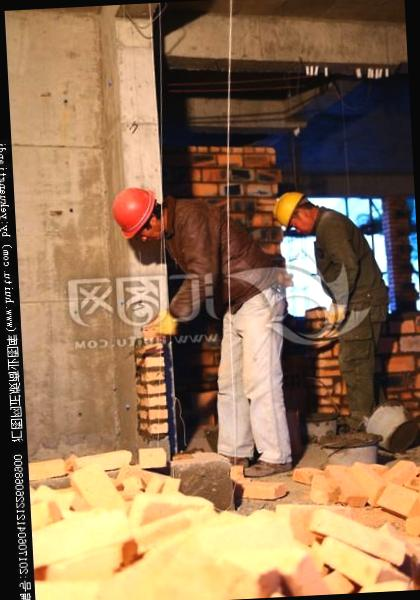helmet: (107, 180, 163, 250), (270, 184, 317, 234)
no_vest: (166, 191, 278, 315), (300, 209, 388, 333)
person: (110, 170, 288, 486), (278, 178, 401, 450)
